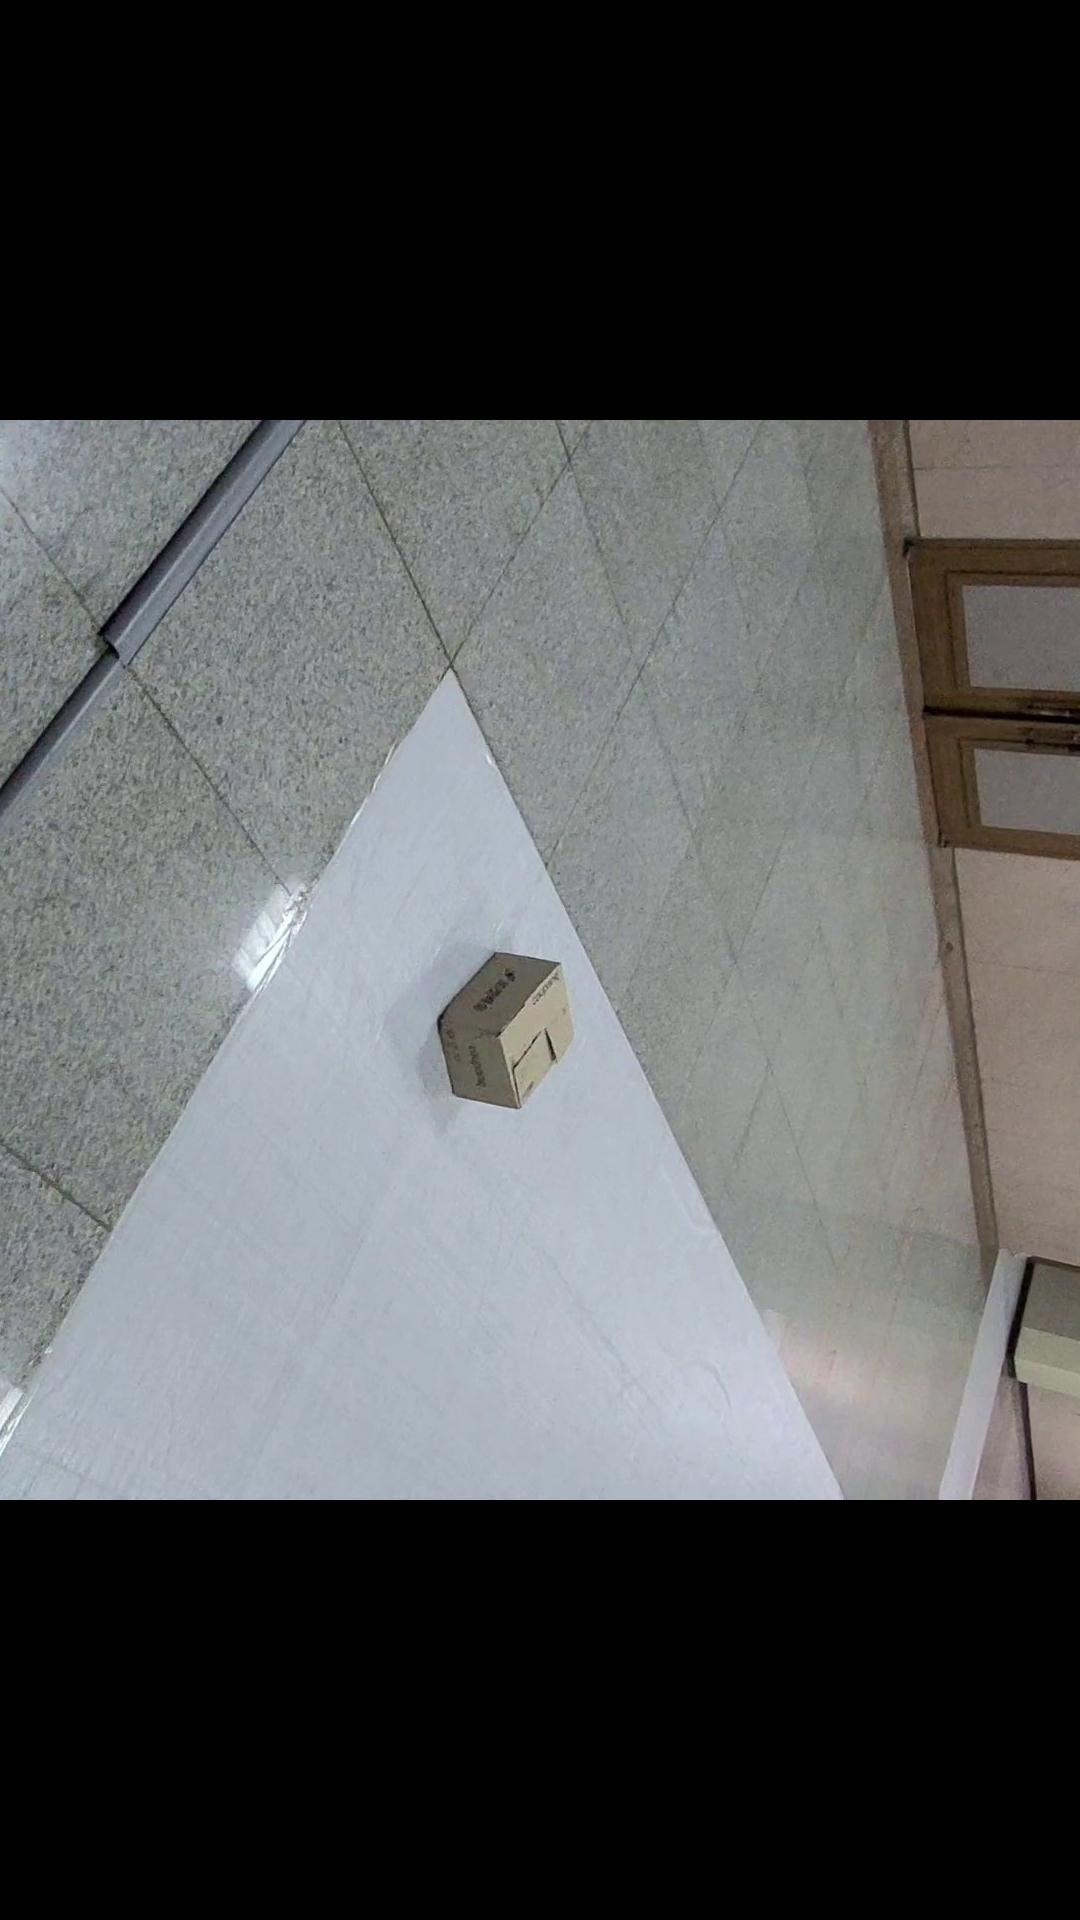Box: (371, 928, 607, 1159)
